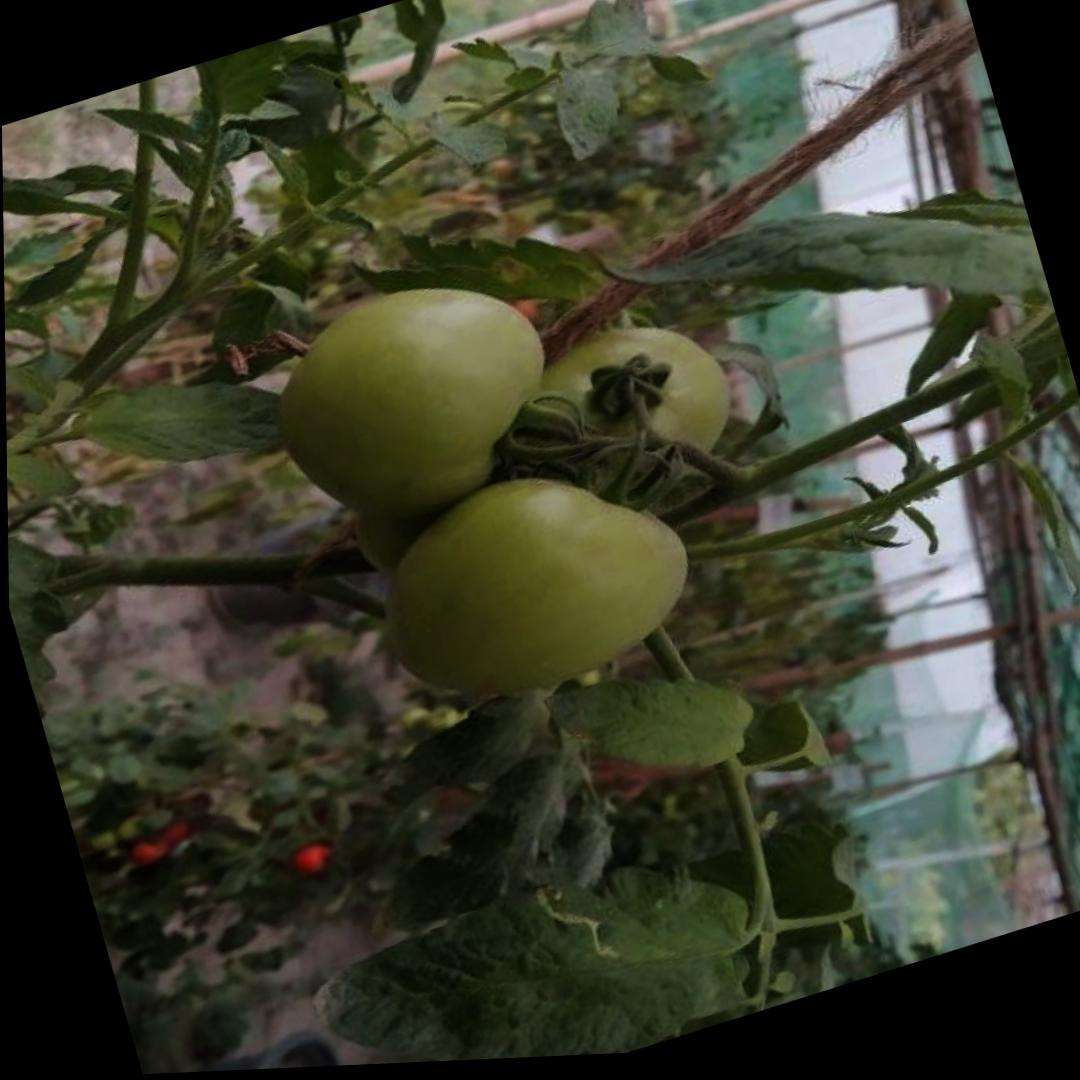mentah: (350, 430, 717, 735), (248, 250, 583, 556), (483, 295, 756, 539)
